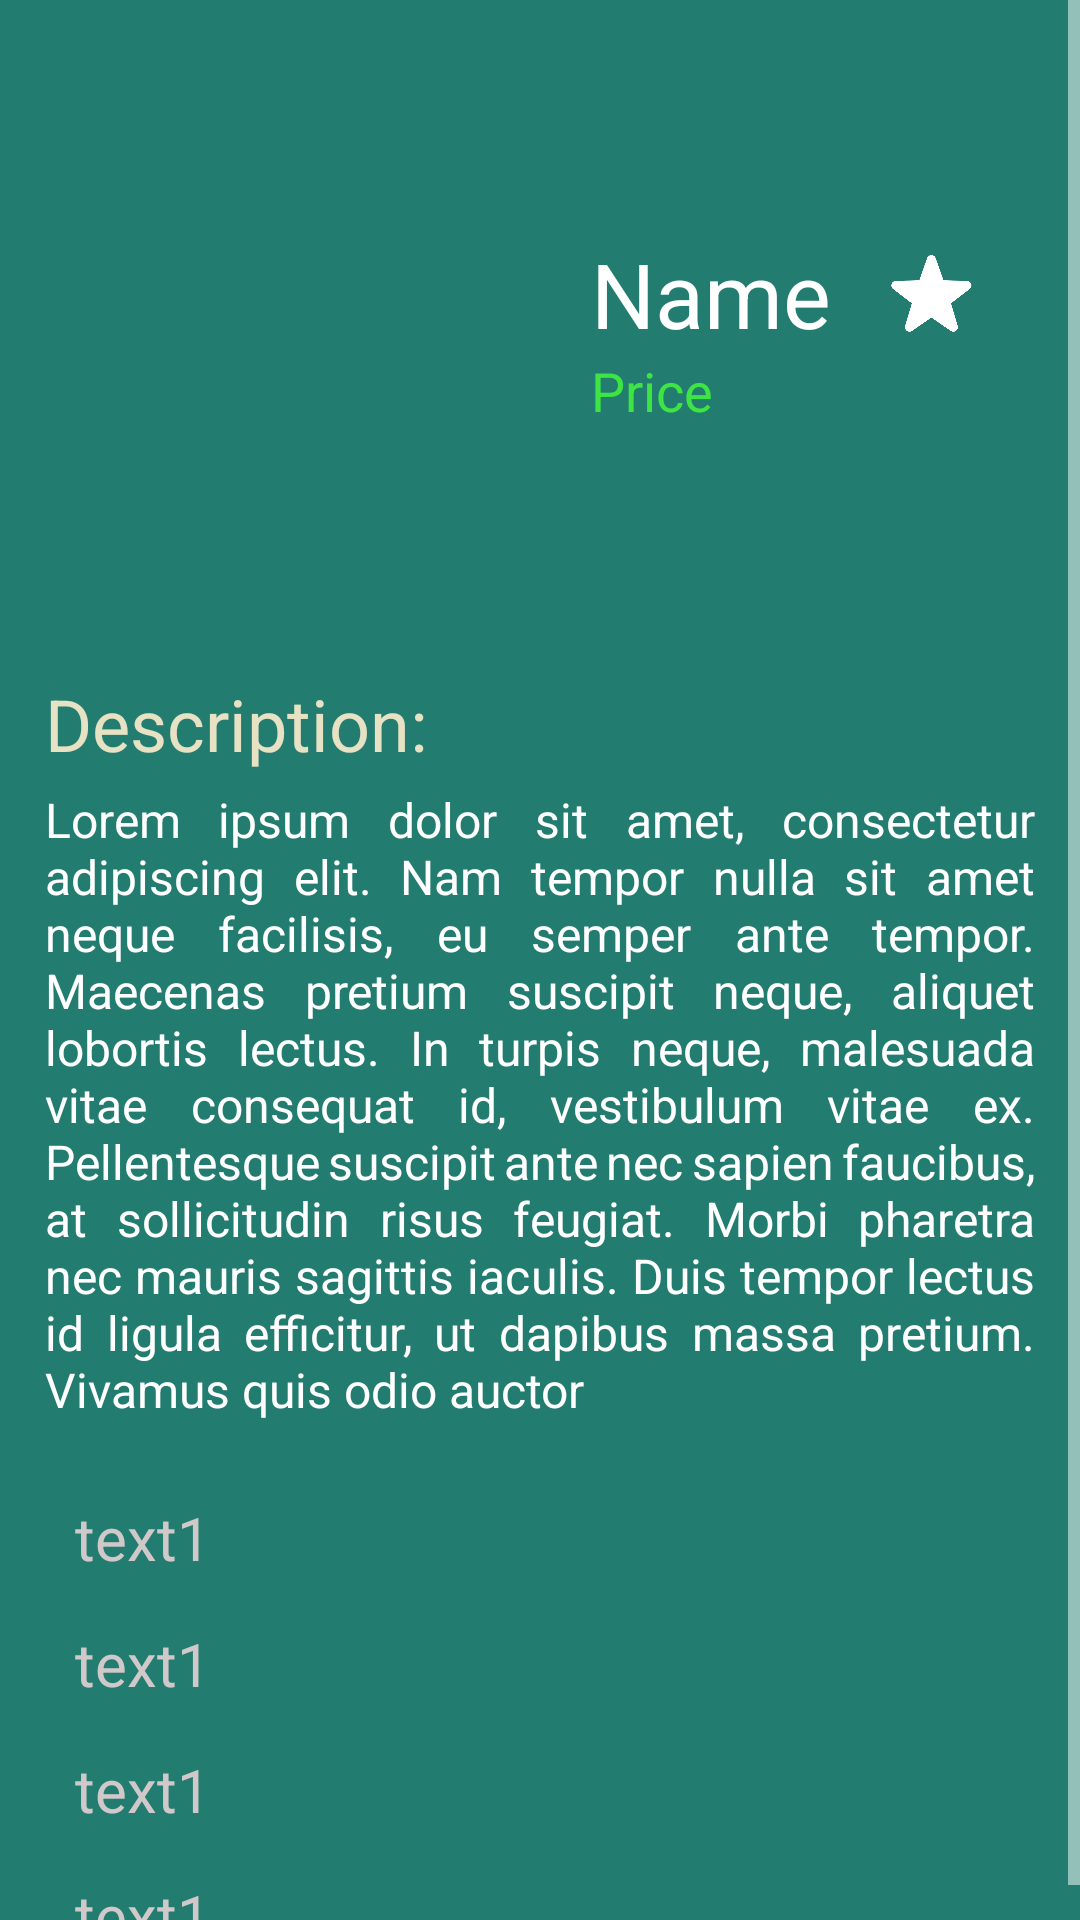

Icons on this 1080 x 1920 Android screen, each with the point to tap as point (x, y):
star: point (931, 293)
